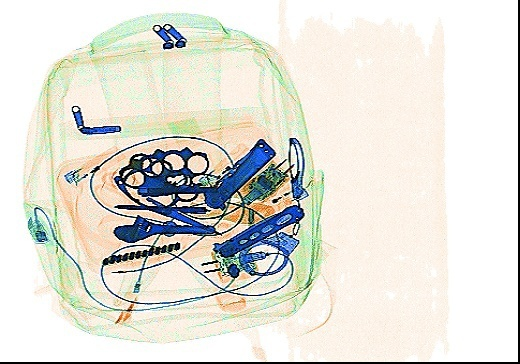handcuffs: (237, 135, 309, 276)
knife: (201, 136, 276, 210), (211, 202, 305, 259), (98, 240, 181, 268)
lighter: (62, 143, 126, 186), (196, 137, 250, 186), (263, 182, 309, 212)
scissors: (92, 169, 222, 236)
